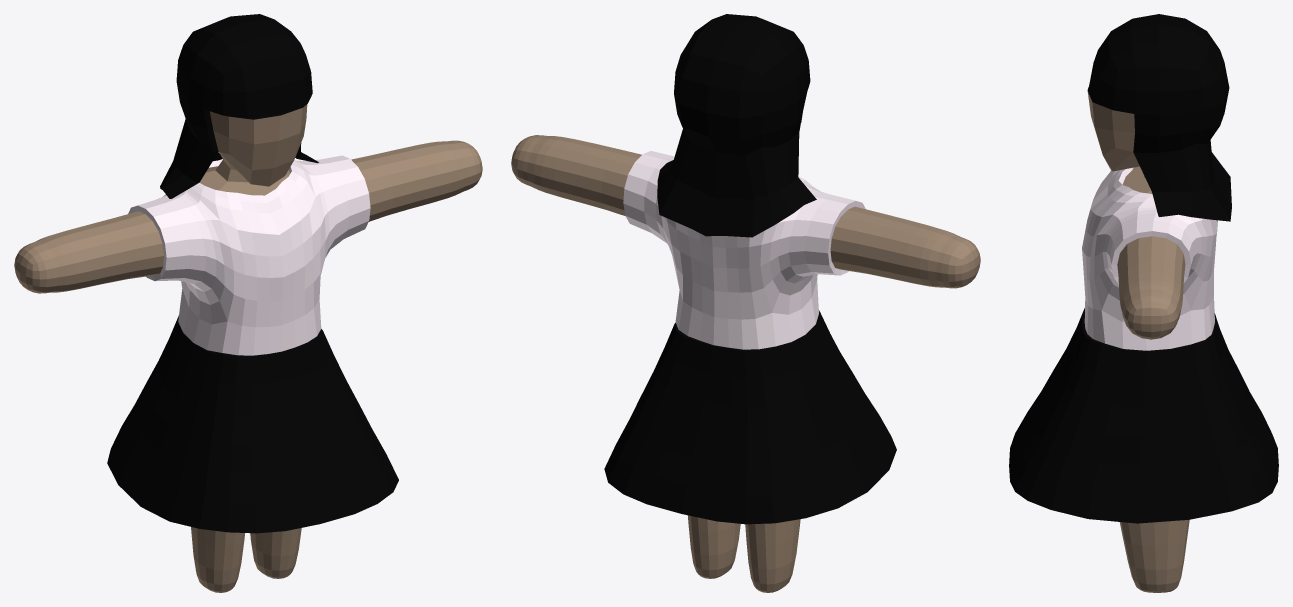
The model's file is Mod2.glb.
3 renders of one model, left to right at view 1: azimuth 30°, elevation 25°; view 2: azimuth 150°, elevation 25°; view 3: azimuth 270°, elevation 25°, orthographic.
Visible parts, largest first — view 1: Modelo 3b; view 2: Modelo 3b; view 3: Modelo 3b.
Boxes of the visible parts, x1,y1,x2,y2 form: Modelo 3b: (14, 14, 482, 592); Modelo 3b: (511, 14, 980, 592); Modelo 3b: (1009, 14, 1278, 592).
Bounding box in the file's own units: 7.96 × 9.24 × 4.11.
